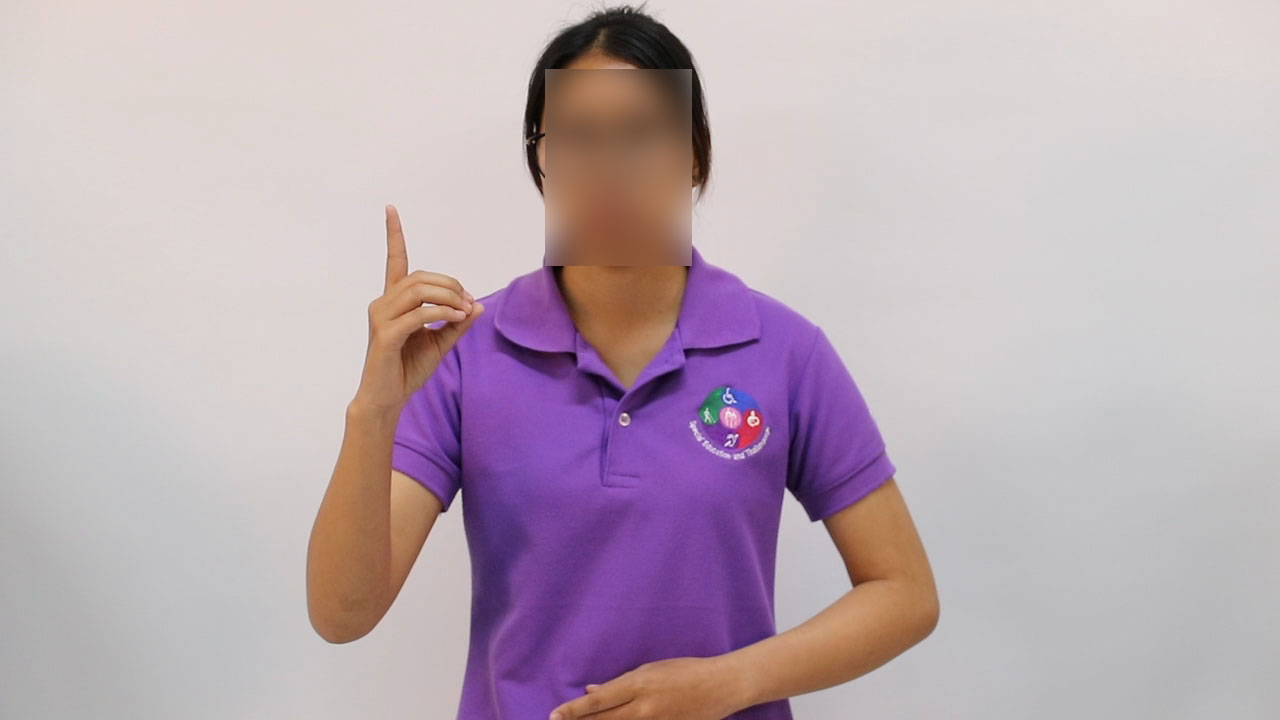dor: (338, 195, 496, 410)
